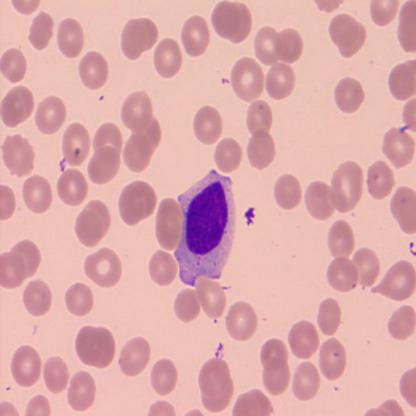Myelocyte: (174, 169, 236, 288)
